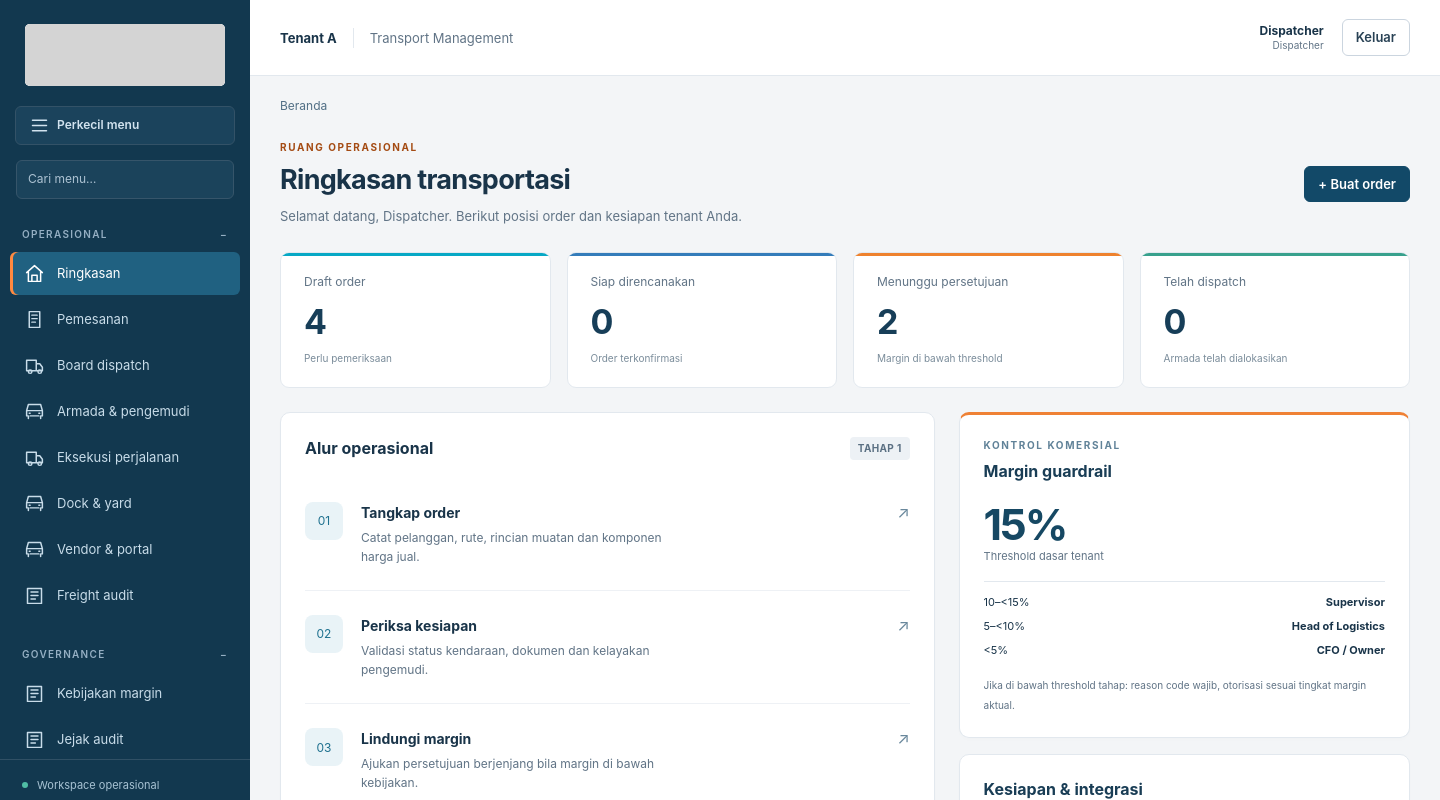
Application shell and server states › shows real dashboard counts, persists collapsed navigation and has keyboard labels
Expected: the heading "Ringkasan transportasi" is shown, x1=280 y1=163 x2=570 y2=196
Expected: the text "4" is shown, x1=304 y1=300 x2=326 y2=342
What coordinates should you click on to do the following:
click the button with aria-label "Perkecil sidebar"
I would click on:
 (125, 126)
Its box is x1=15 y1=106 x2=235 y2=145.
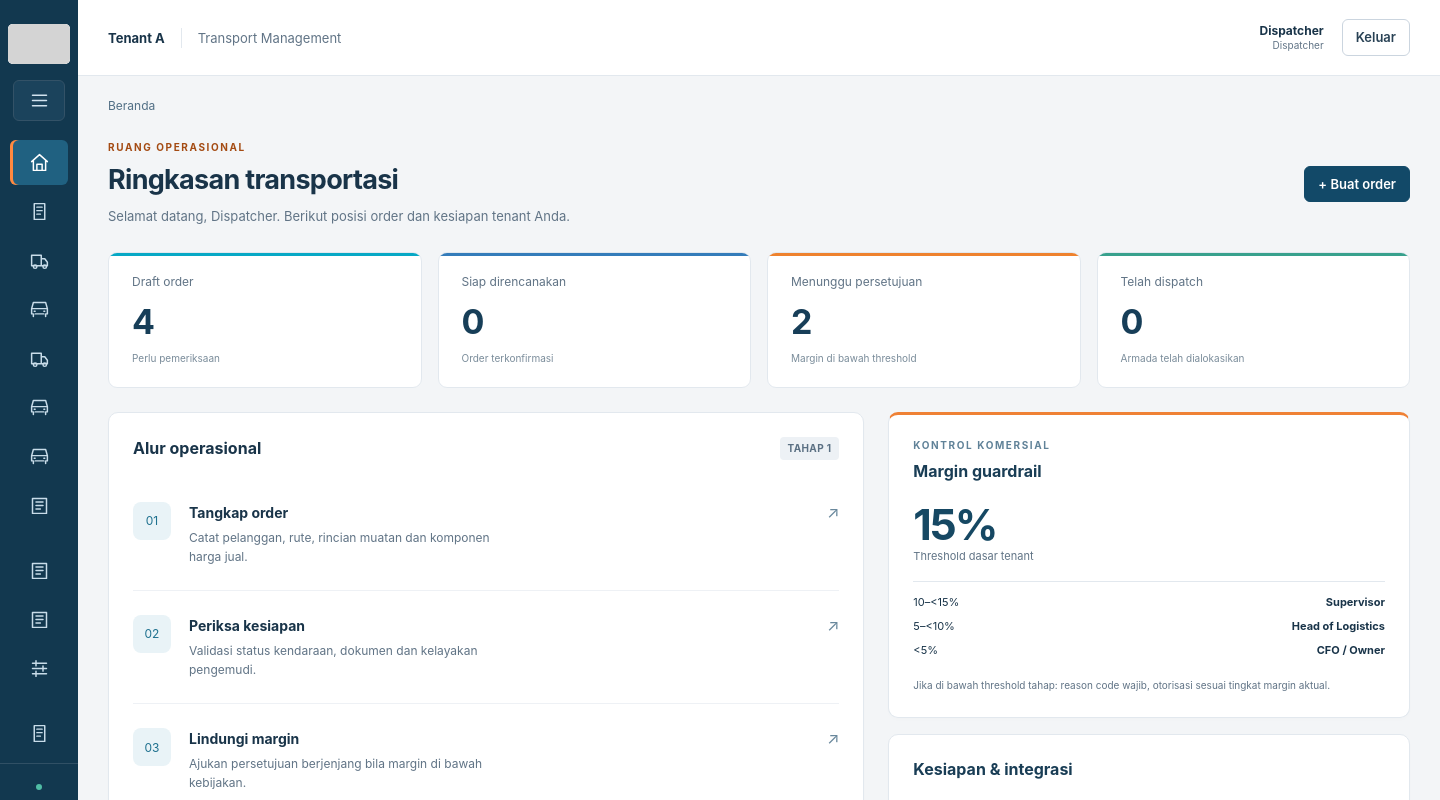
Now the button named "Perluas sidebar" is collapsed, box x1=13 y1=80 x2=65 y2=121
What coordinates should you click on to do the following:
click the link named "Pemesanan"
I would click on:
 (39, 212)
Its box is x1=28 y1=201 x2=50 y2=222.
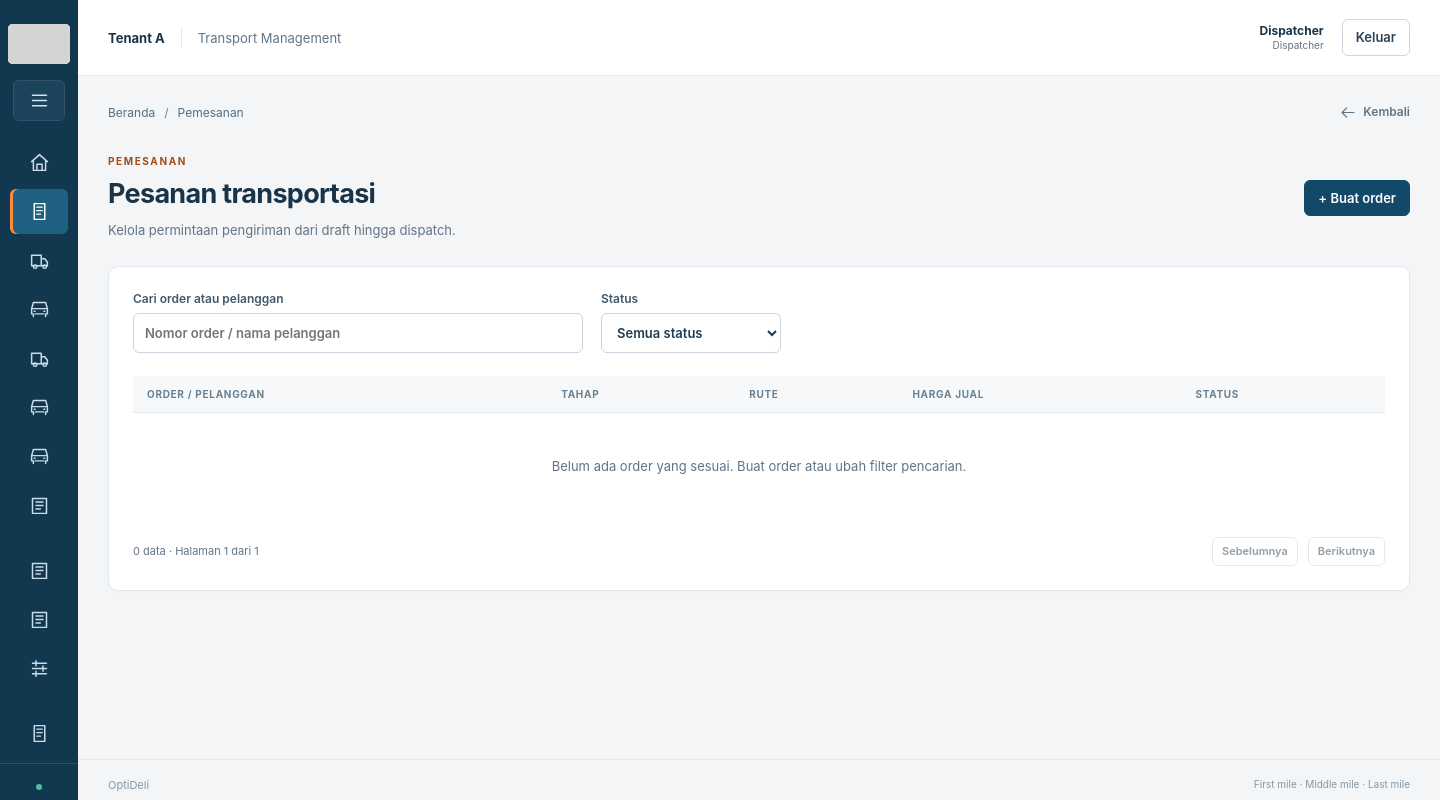
Expected: the navigation bar named "Breadcrumb" is shown, x1=108 y1=105 x2=244 y2=120
Now the heading "Pesanan transportasi" is shown, box x1=108 y1=177 x2=375 y2=210
Now the button "Kembali" is shown, box x1=1340 y1=98 x2=1410 y2=127
